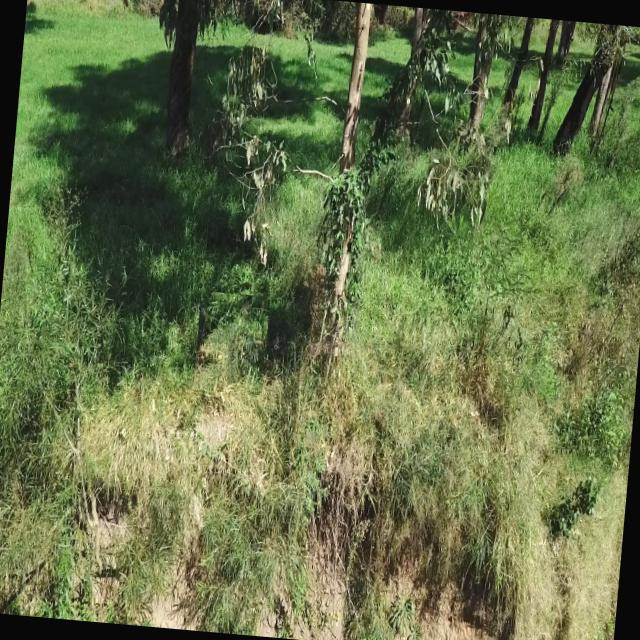Mysore-Thorn-Weed: (192, 291, 270, 395)
